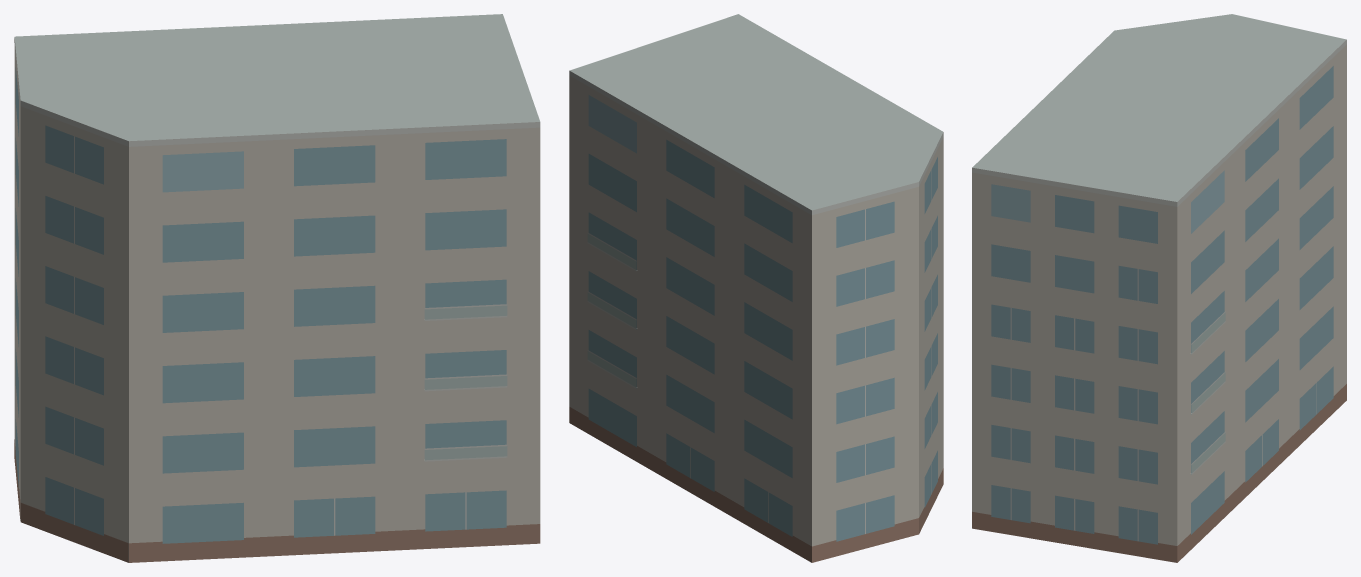
The model's file is survey-upis-32561389.glb.
3 renders of one model, left to right at view 1: azimuth 30°, elevation 25°; view 2: azimuth 150°, elevation 25°; view 3: azimuth 270°, elevation 25°, orthographic. The views are drawn at different scales.
Visible parts, largest first — view 1: survey-upis-32561389.tmp; view 2: survey-upis-32561389.tmp; view 3: survey-upis-32561389.tmp.
Boxes of the visible parts, x1,y1,x2,y2 form: survey-upis-32561389.tmp: (14,14,540,562); survey-upis-32561389.tmp: (569,14,943,562); survey-upis-32561389.tmp: (972,14,1346,562).
Bounding box in the file's own units: 20.12 × 18 × 16.95.
